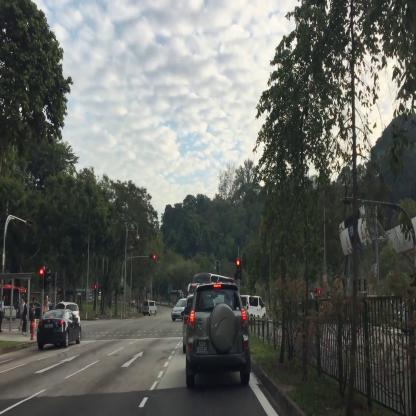red_traffic_light: (39, 267, 44, 287), (236, 259, 240, 279), (149, 254, 156, 260)
